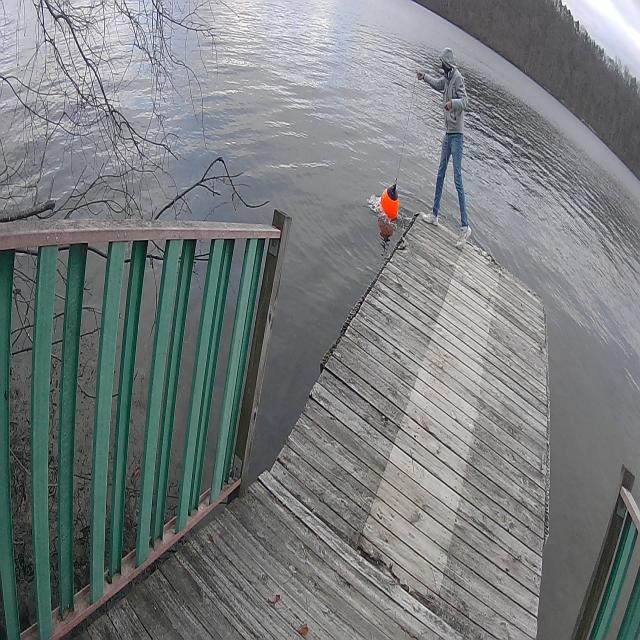Buoy: (378, 178, 403, 225)
